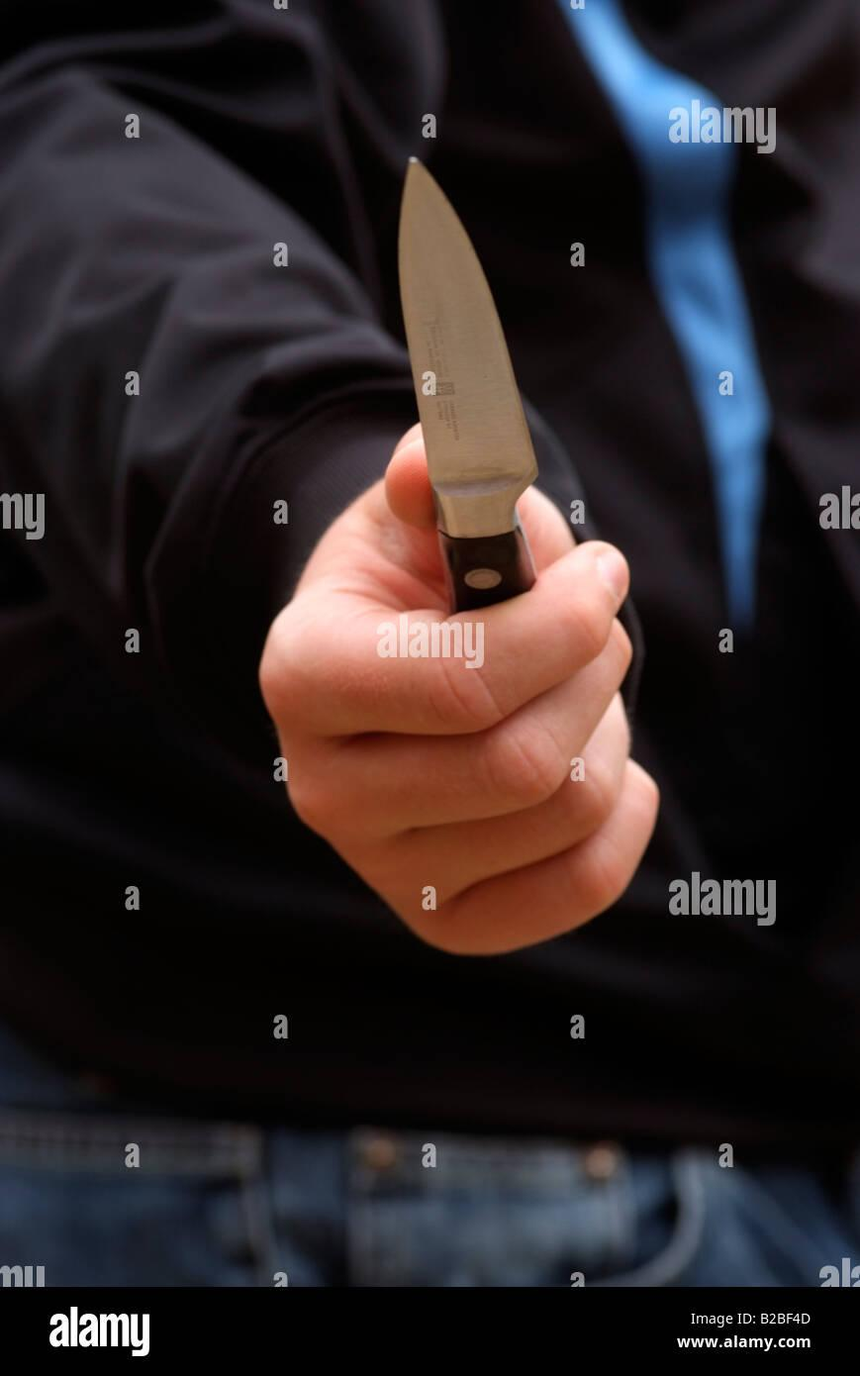Knife: (0, 0, 860, 1293), (261, 533, 655, 962), (396, 158, 544, 580)
